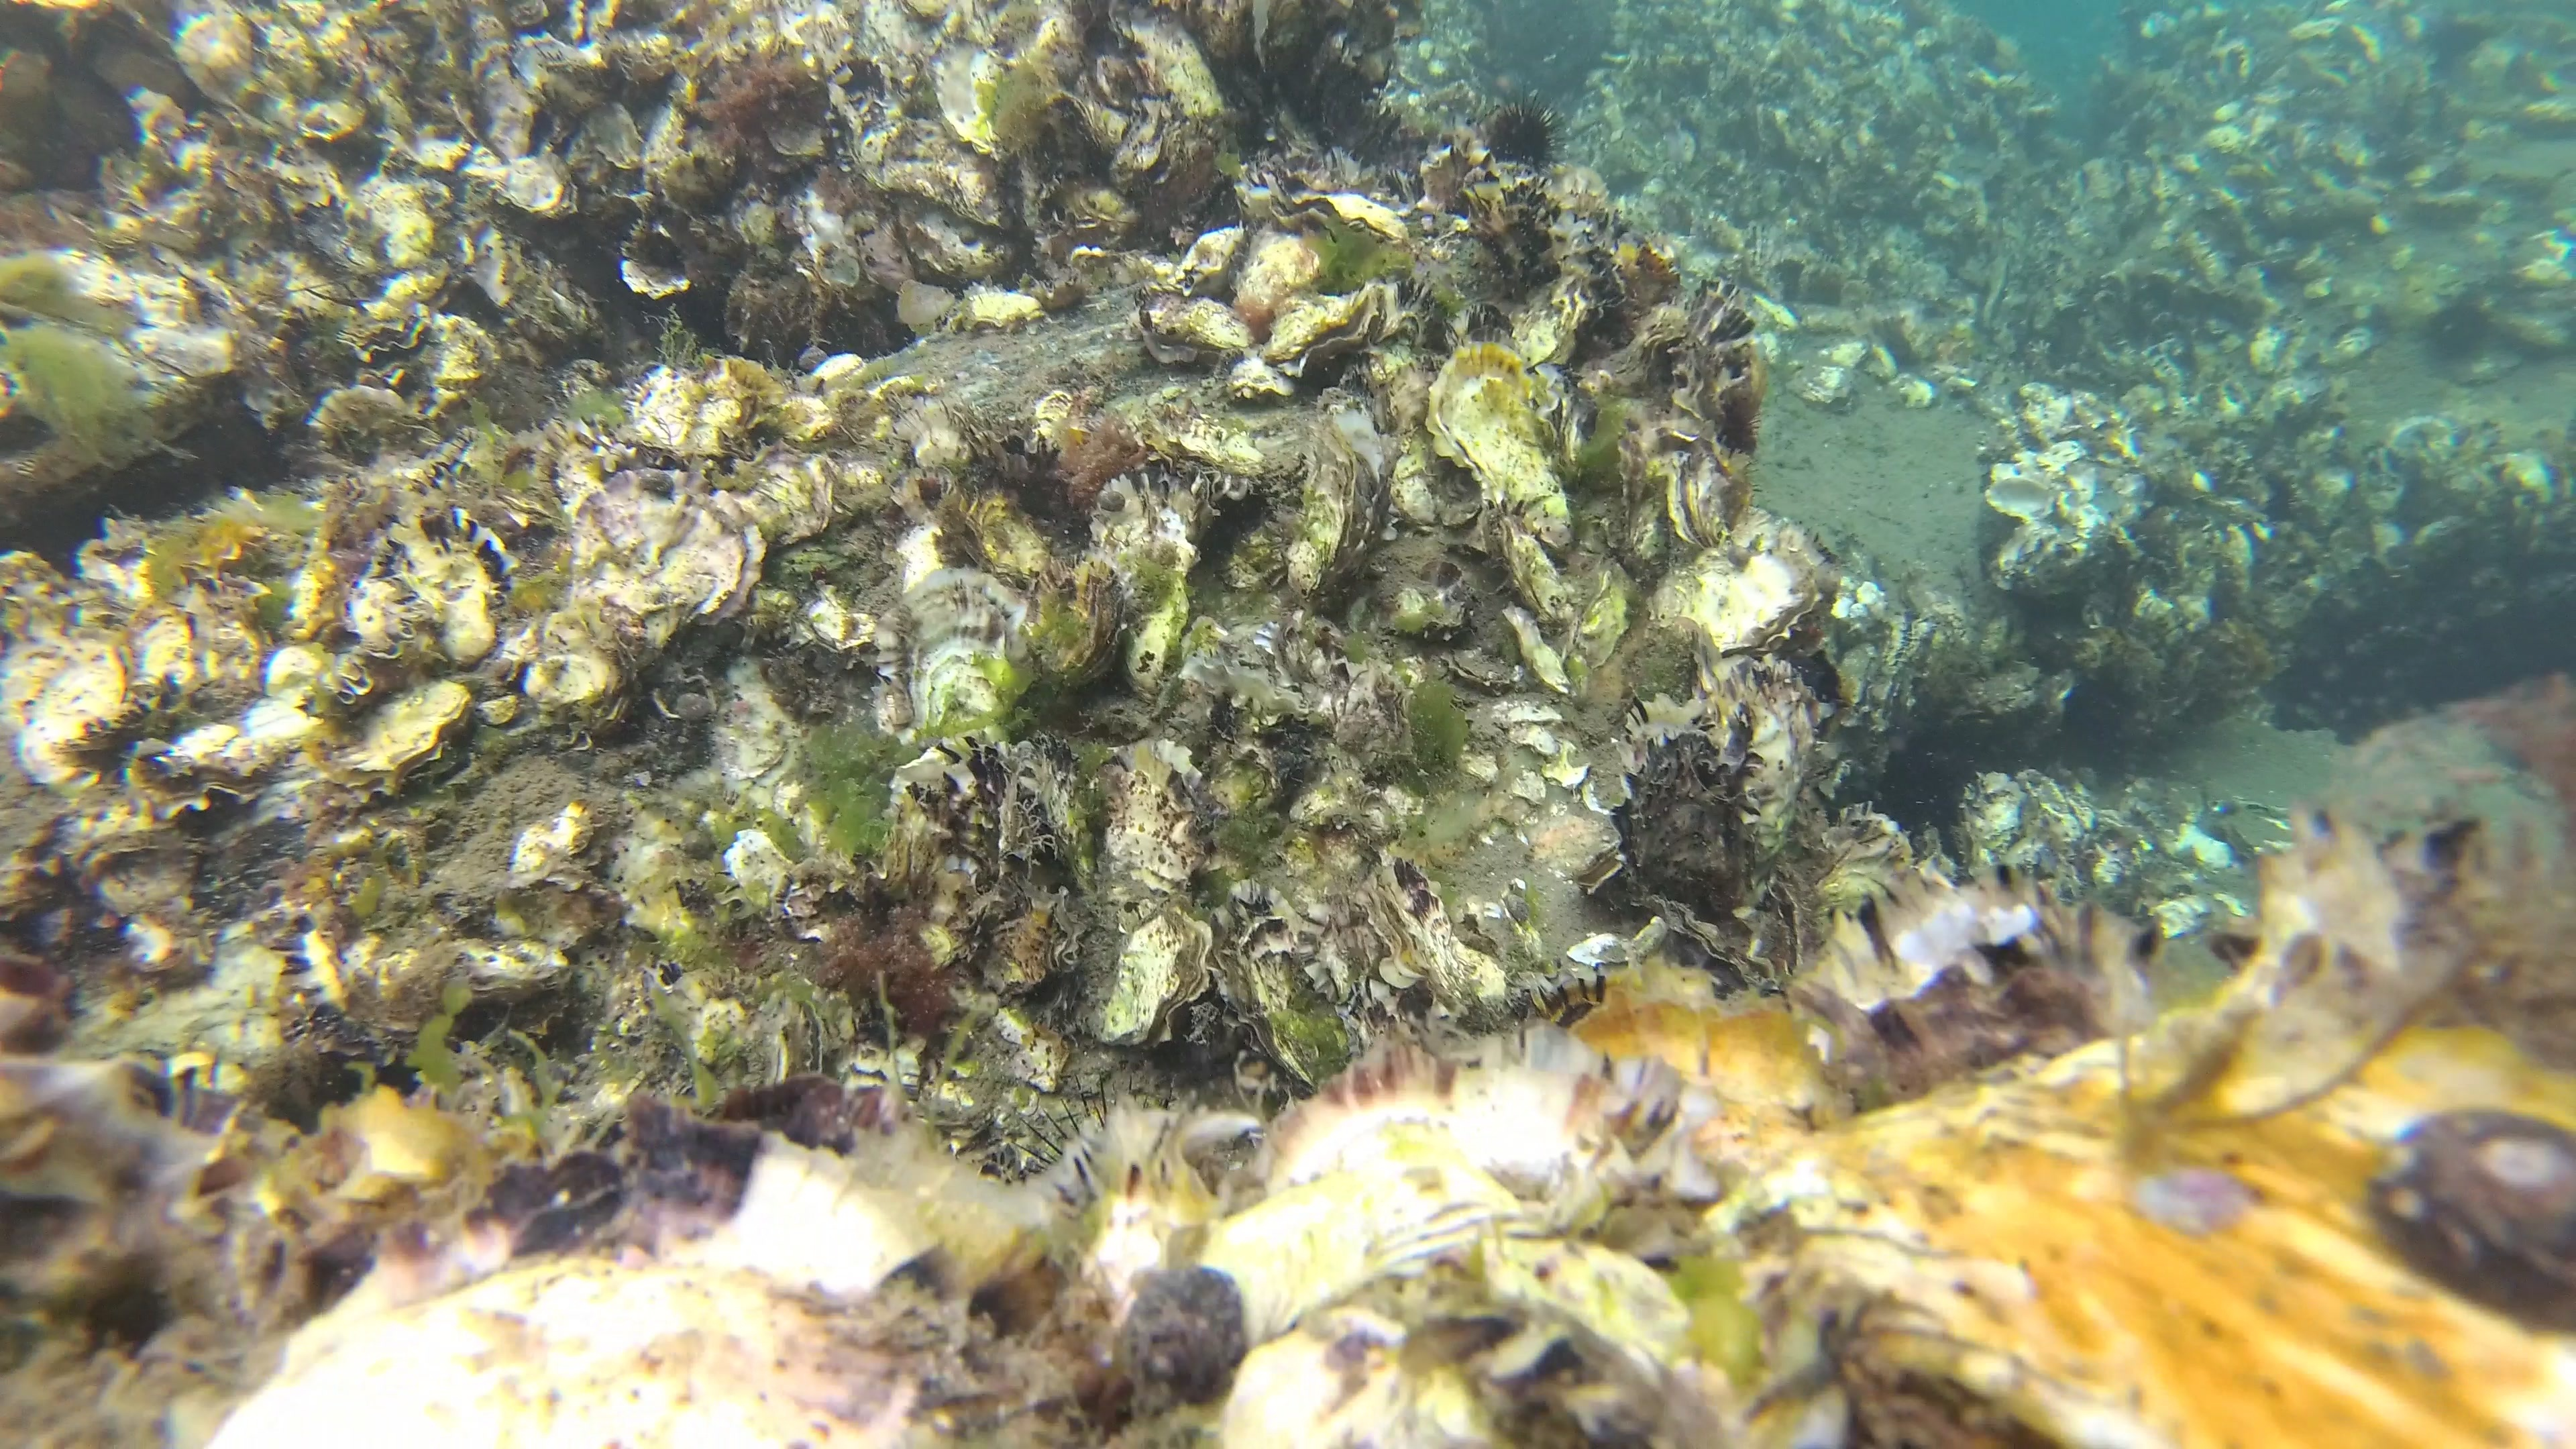echinus: (1484, 87, 1575, 175), (2419, 297, 2498, 370)
